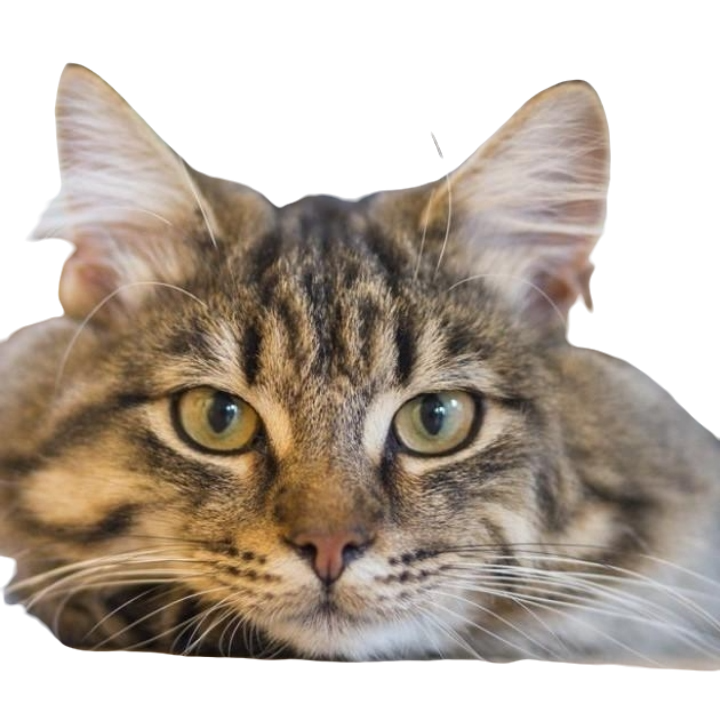Cat: (2, 55, 719, 684)
